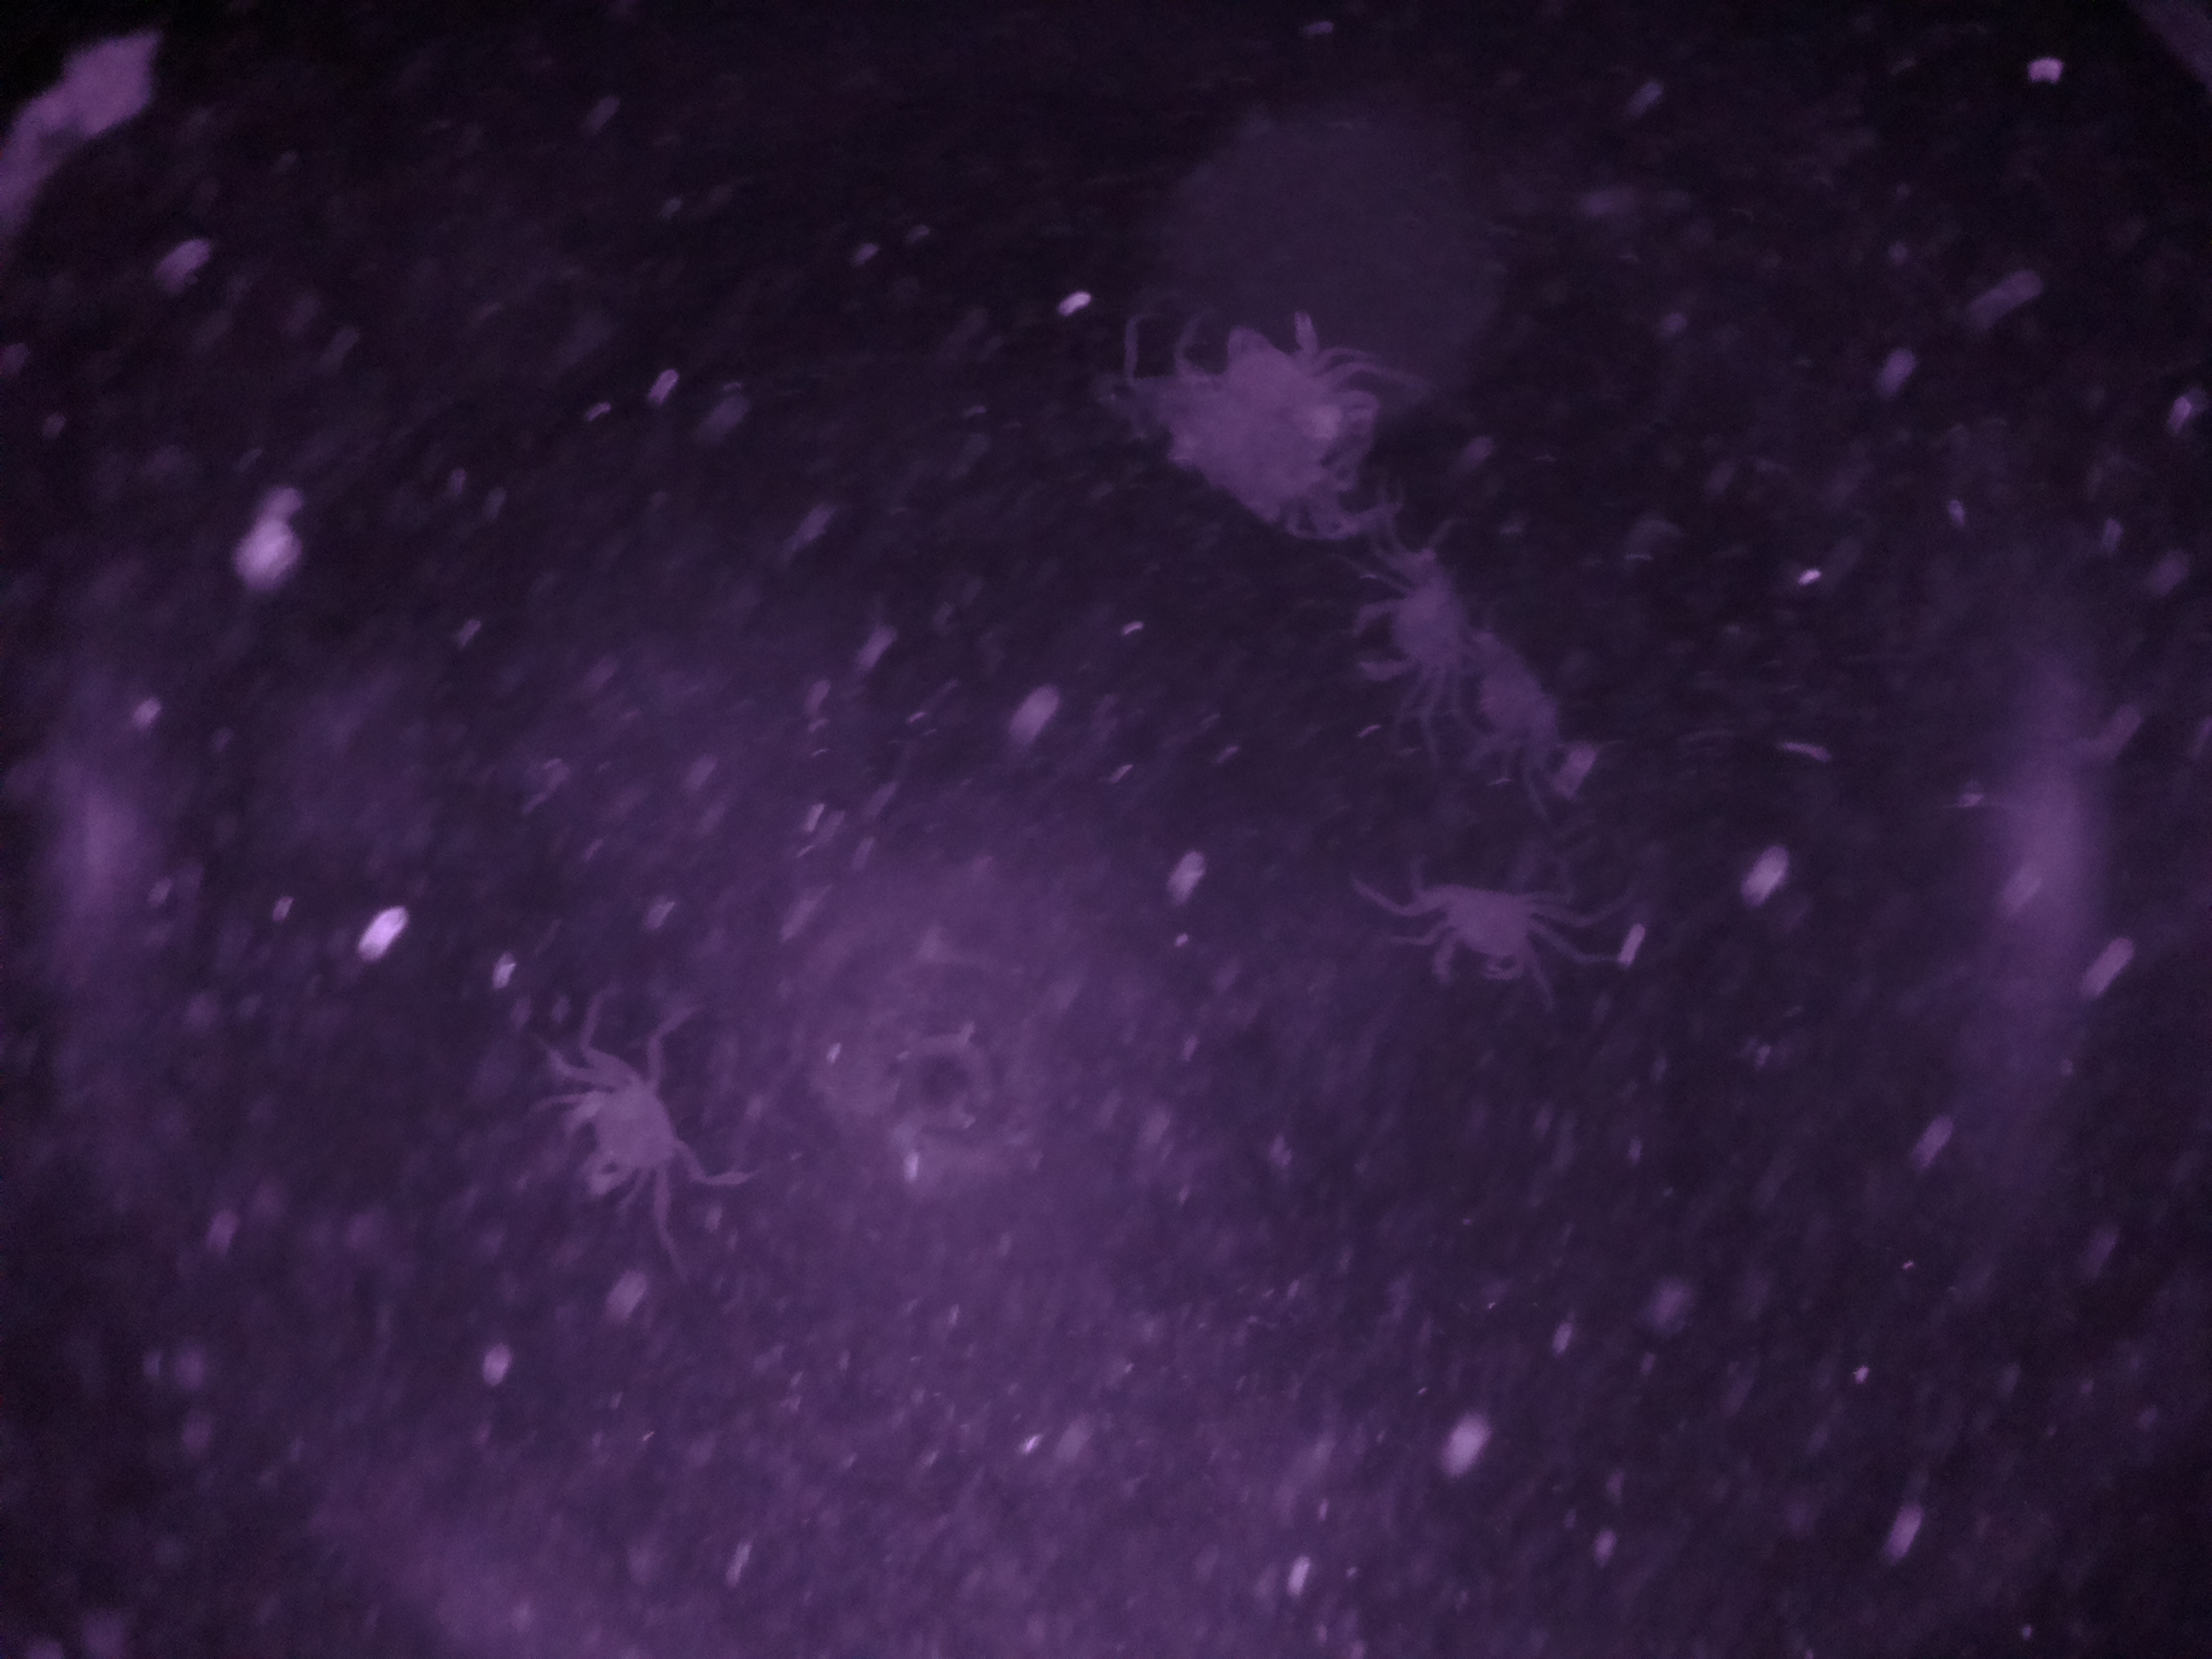Crab: (1393, 852, 1581, 1009), (543, 1049, 718, 1209)
